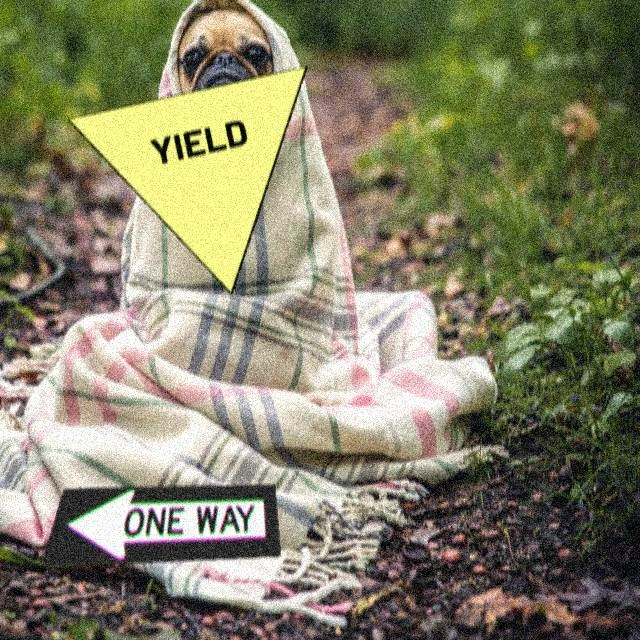ONE_WAY_ left: (40, 483, 282, 567)
YIELD: (67, 65, 309, 295)
